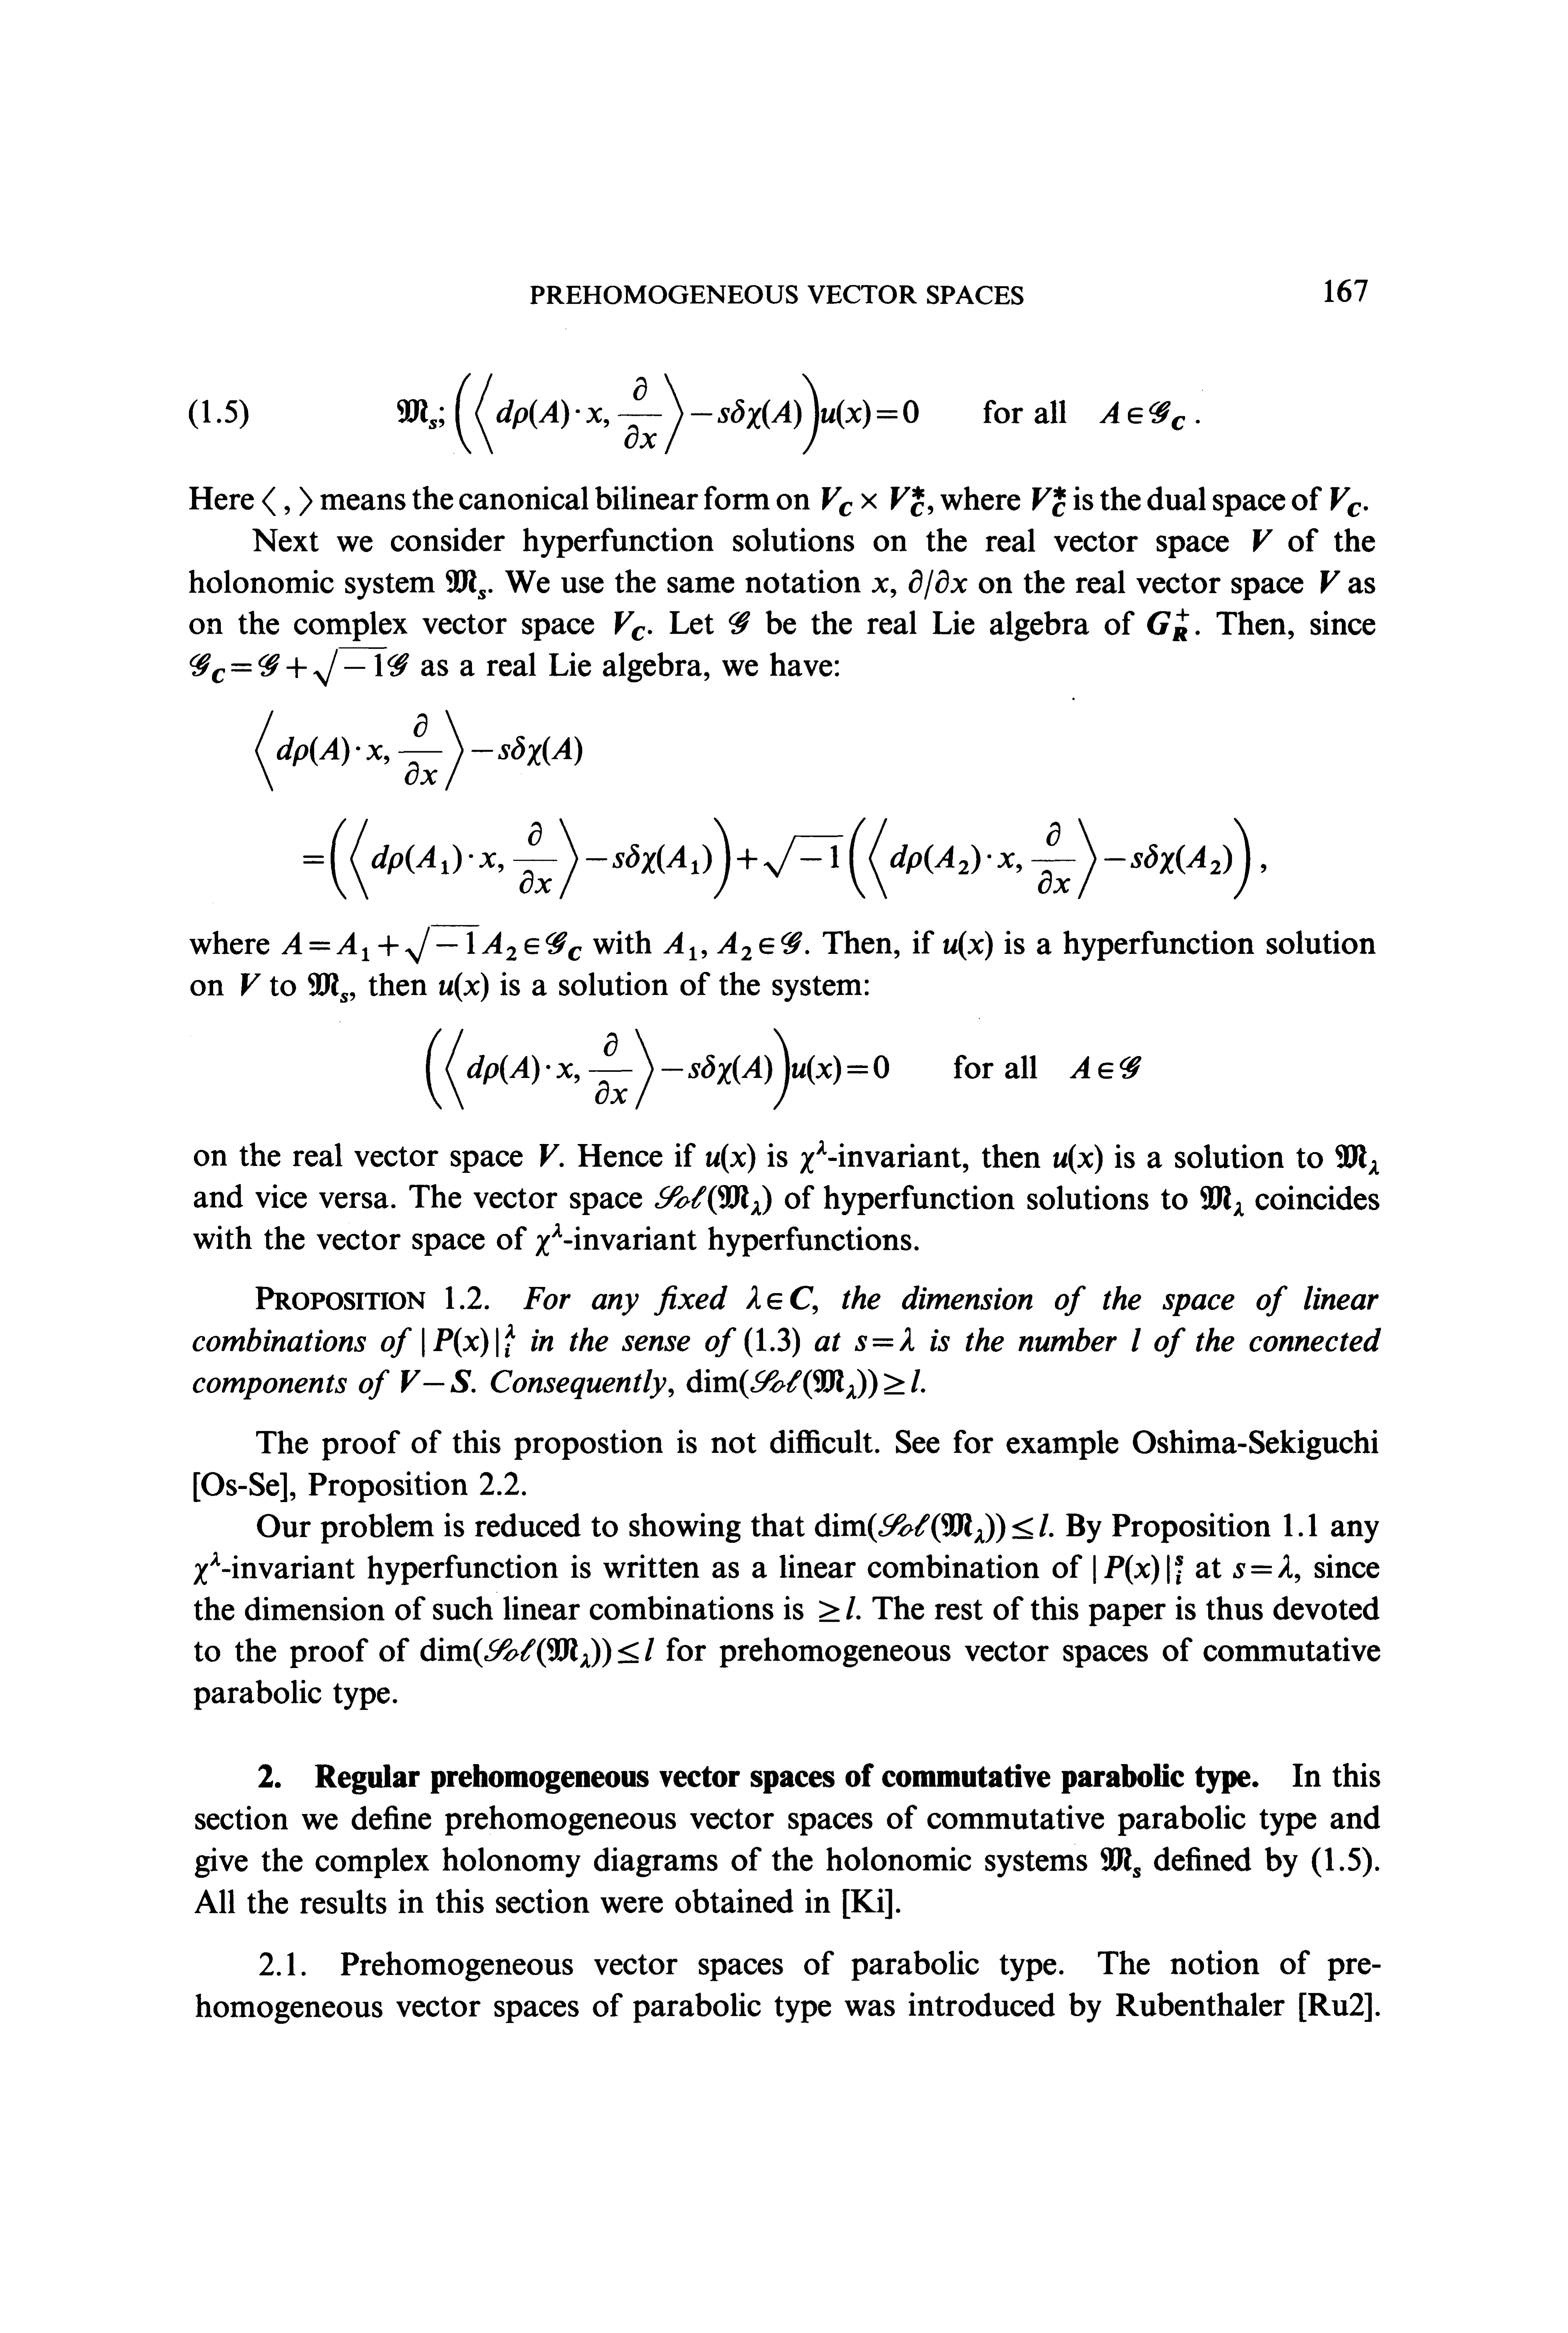maths: (303, 817, 1249, 900), (397, 373, 919, 453), (425, 1029, 889, 1110), (256, 711, 581, 791), (282, 926, 581, 964), (189, 649, 408, 686), (686, 1369, 921, 1398), (816, 1514, 1048, 1544), (420, 1638, 653, 1668), (663, 931, 802, 961), (654, 1185, 772, 1215), (422, 1323, 514, 1356), (822, 487, 924, 516), (1094, 1554, 1183, 1584), (1099, 401, 1185, 431), (908, 569, 968, 600), (401, 1369, 471, 1393), (746, 1285, 814, 1309), (1069, 1055, 1141, 1078), (943, 931, 992, 961), (705, 1143, 754, 1173), (1053, 1145, 1102, 1174), (1234, 1554, 1292, 1579), (856, 1327, 914, 1351), (262, 487, 311, 515), (439, 973, 488, 1001), (1335, 1145, 1379, 1174), (1200, 1187, 1244, 1216), (1148, 609, 1188, 641), (446, 569, 485, 600), (308, 973, 348, 1003), (1101, 1848, 1141, 1878), (1032, 487, 1066, 516), (1330, 487, 1361, 516), (819, 1596, 856, 1621), (614, 611, 644, 641), (800, 1139, 826, 1173), (536, 1223, 562, 1257), (194, 1551, 220, 1584), (1319, 571, 1341, 593), (728, 611, 749, 634), (539, 1143, 558, 1167), (1253, 529, 1272, 551), (241, 973, 261, 996), (871, 578, 889, 593), (1132, 1328, 1141, 1351)
